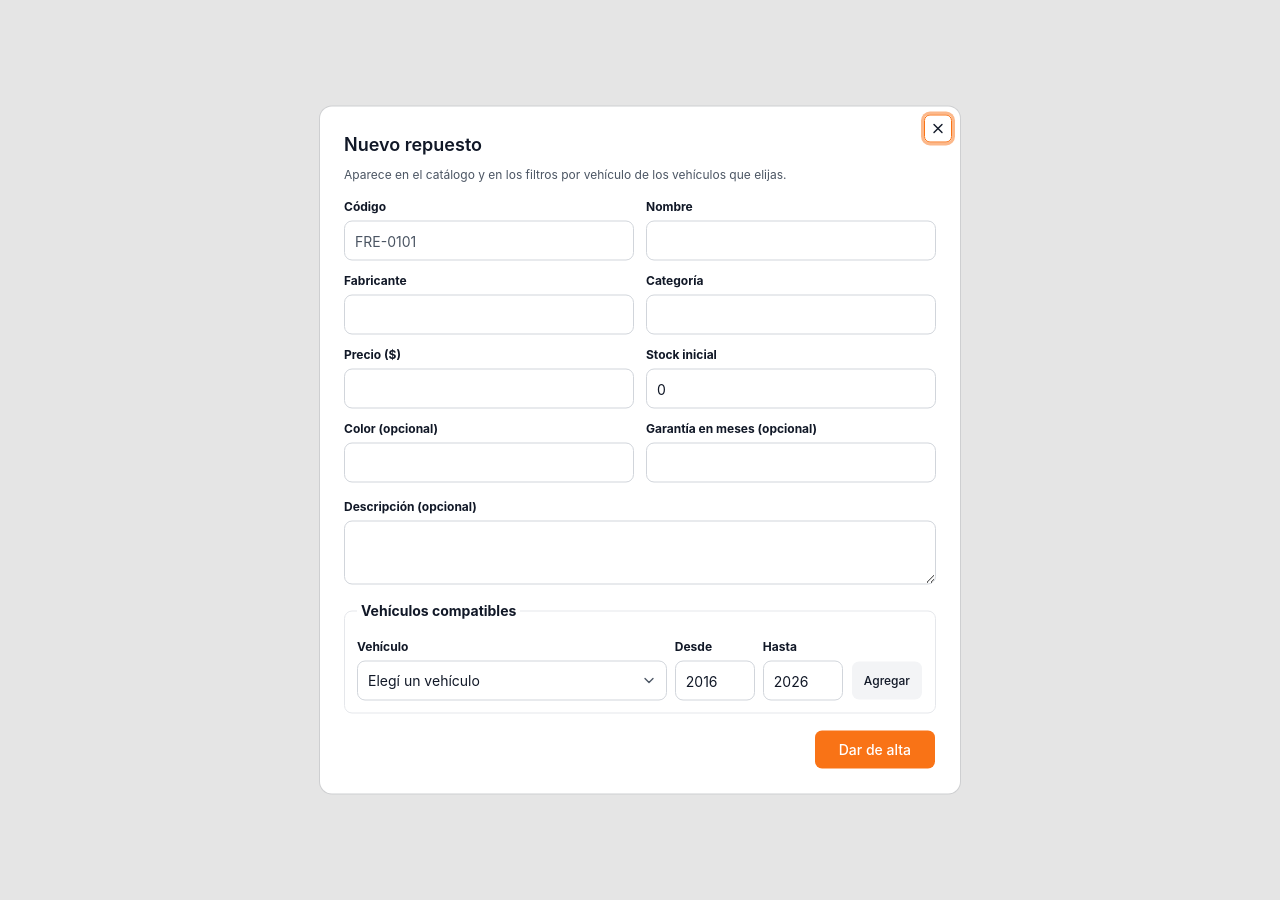
Scenario: does not add a vehicle with the years reversed
Select "Chevrolet Onix 1.4 8V" in the dropdown labelled "Vehículo": (512, 680) [357, 660, 667, 700]
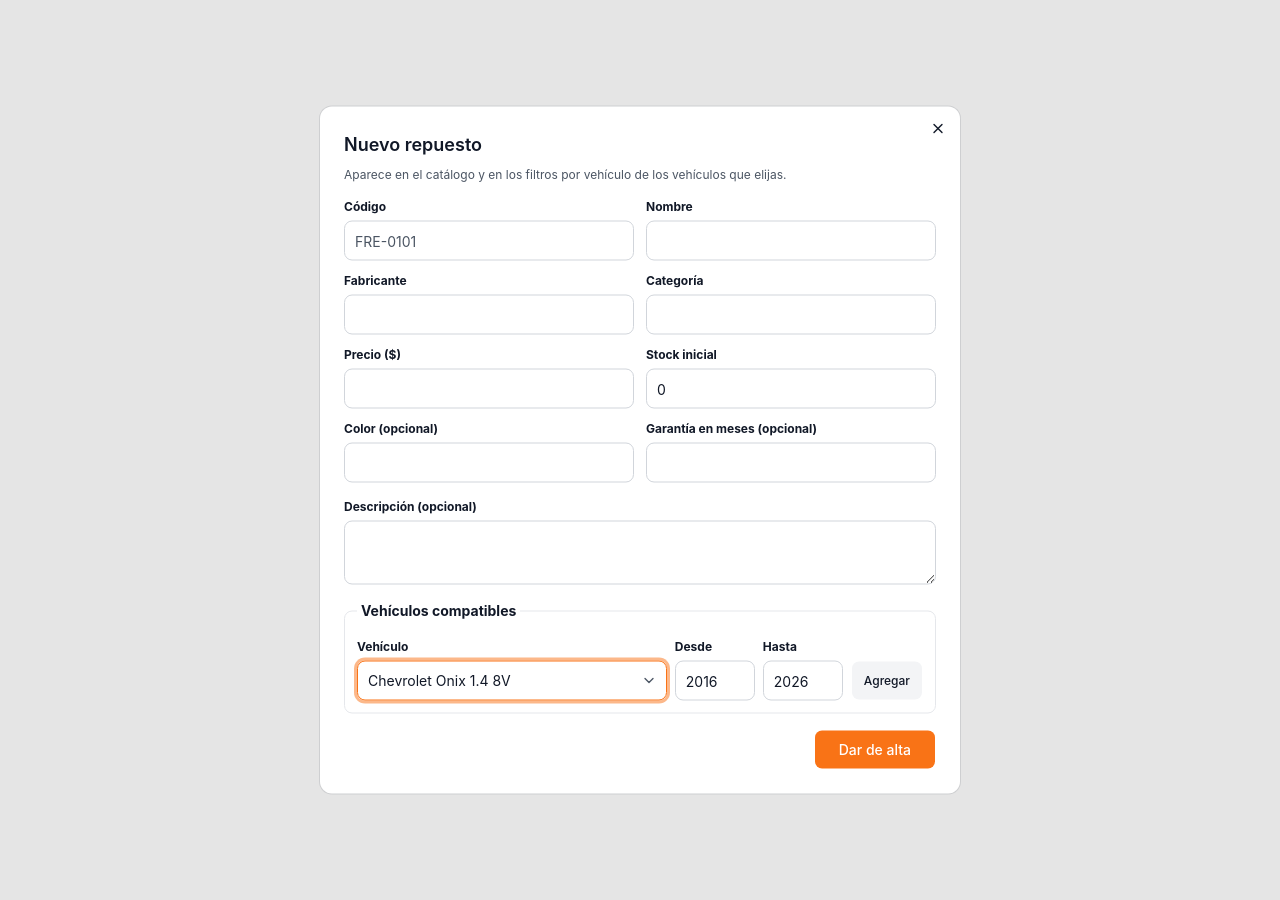
Replace the text in the field labelled "Desde" with "2022": (715, 680) [675, 660, 755, 700]
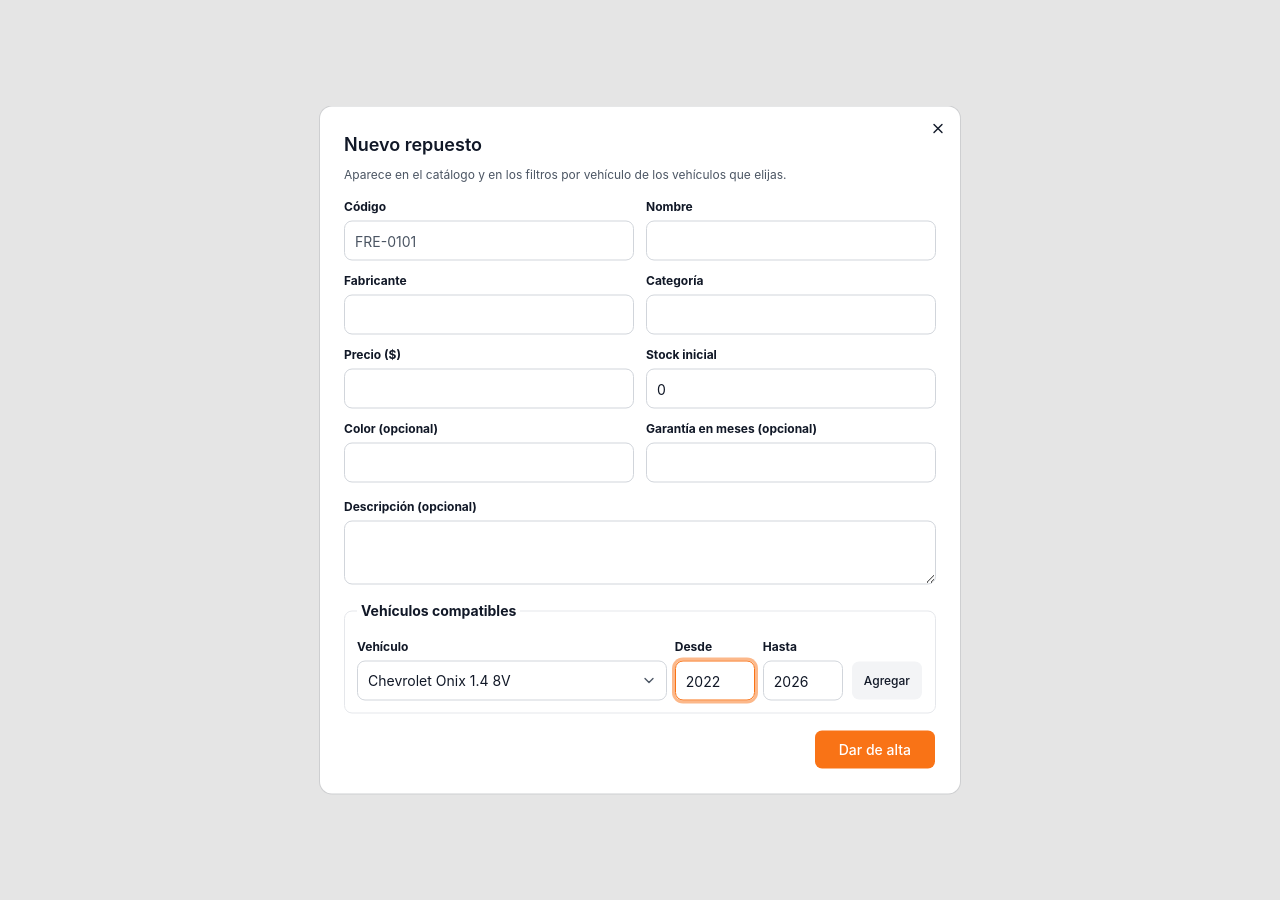
Replace the text in the field labelled "Hasta" with "2015": (803, 680) [763, 660, 843, 700]
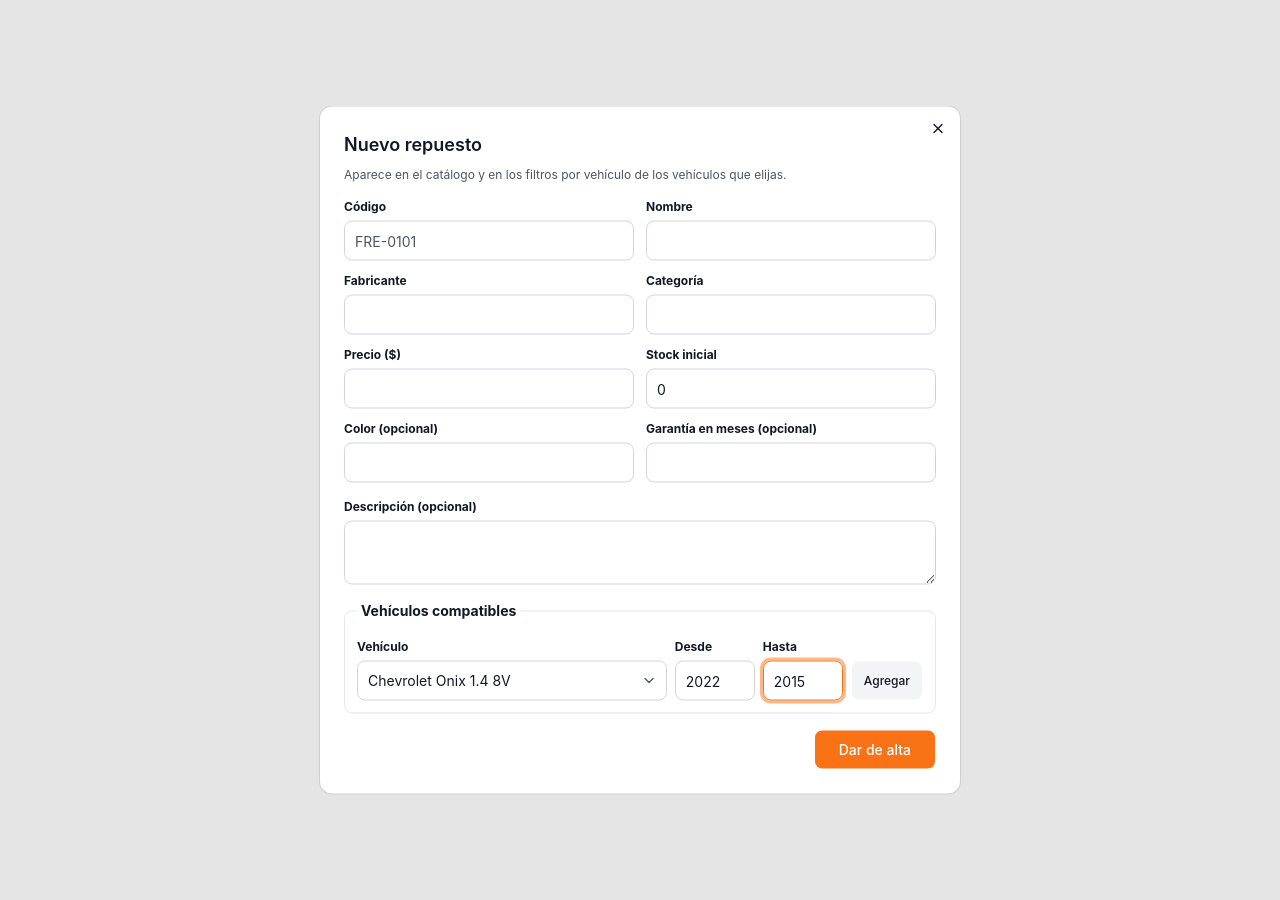
Click the button "Agregar": (887, 680) [851, 660, 923, 700]
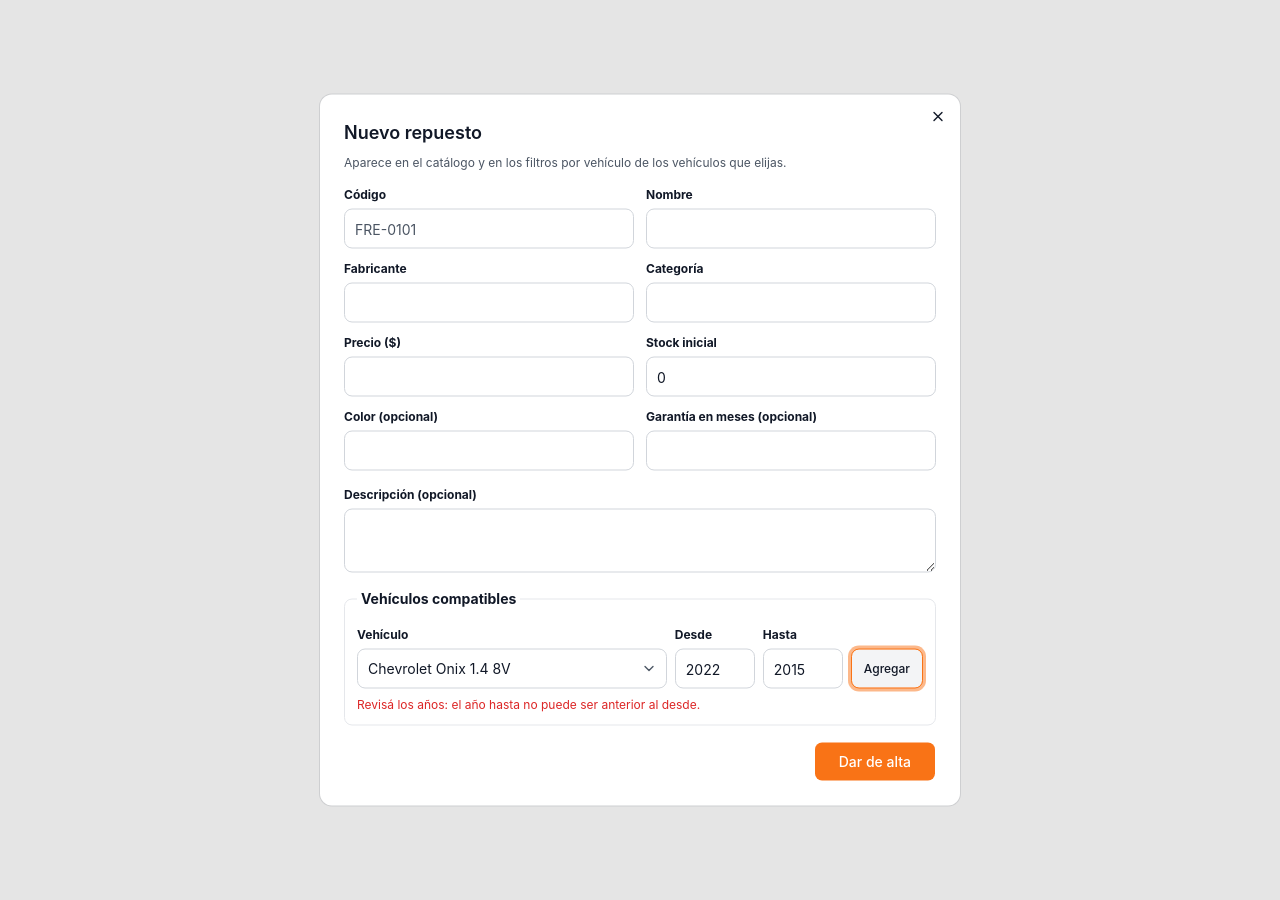
Result: the text "el año hasta no puede ser anterior" is shown at [357, 696, 700, 712]
